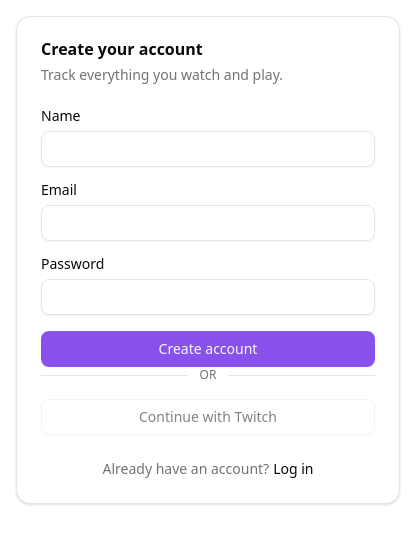
RegisterPage › validación de campo: email ya registrado marca el campo email
This screenshot has width=417, height=550.
Type "New Person" into the field labelled "Name" at [208, 149], box [41,131,375,167]
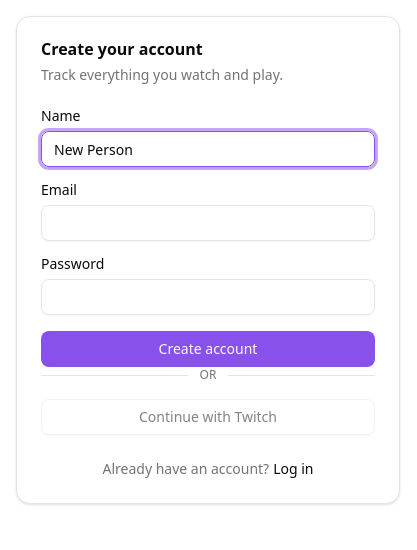
Type "alex@example.com" into the field labelled "Email" at [208, 223], box [41,205,375,241]
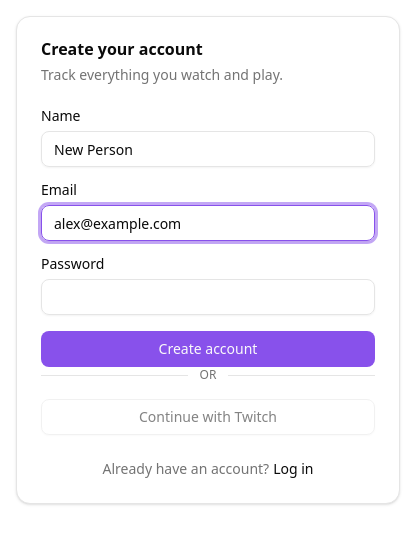
Type "password123" into the password field labelled "Password" at [208, 297], box [41,279,375,315]
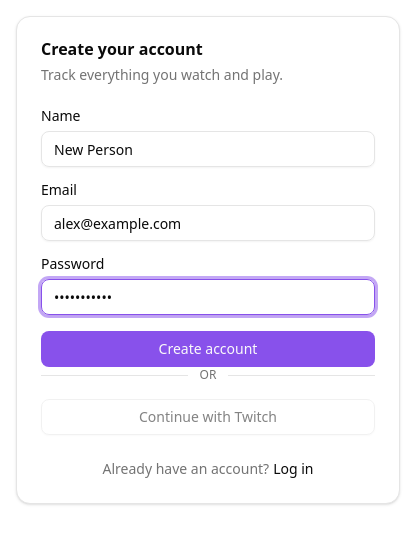
Click the button "Create account" at [208, 349], box [41,331,375,367]
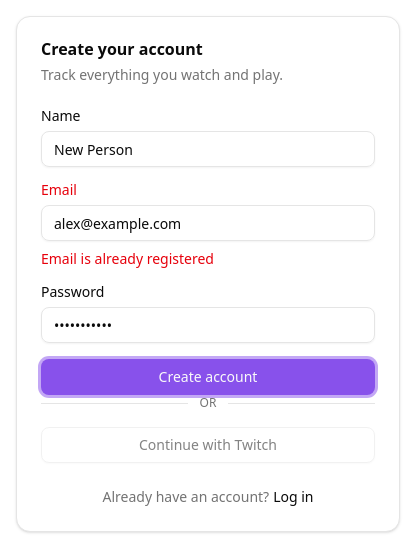
Expected: the text "Email is already registered" is shown, [41,249,214,268]
